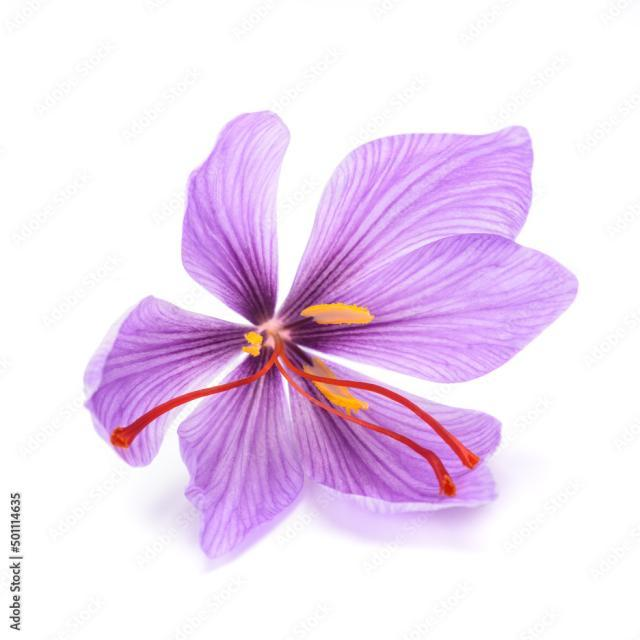Flower: (146, 176, 514, 518)
stigma: (275, 359, 460, 502), (280, 347, 483, 472), (108, 340, 286, 450)
